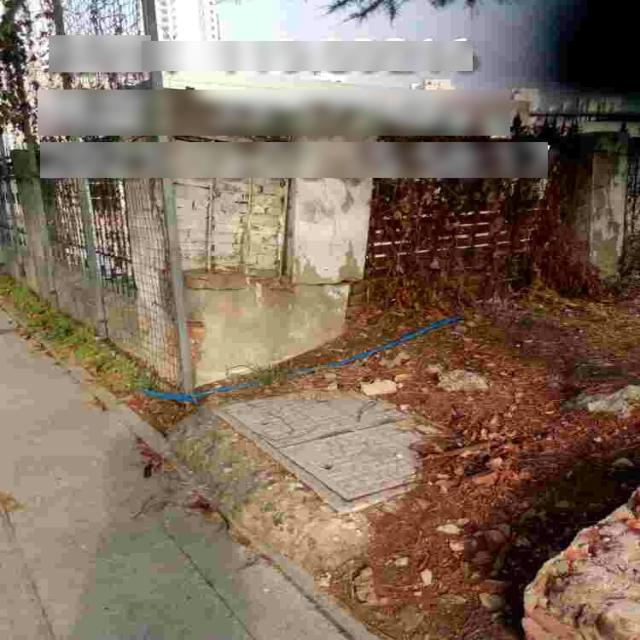Good: (202, 389, 495, 513)
